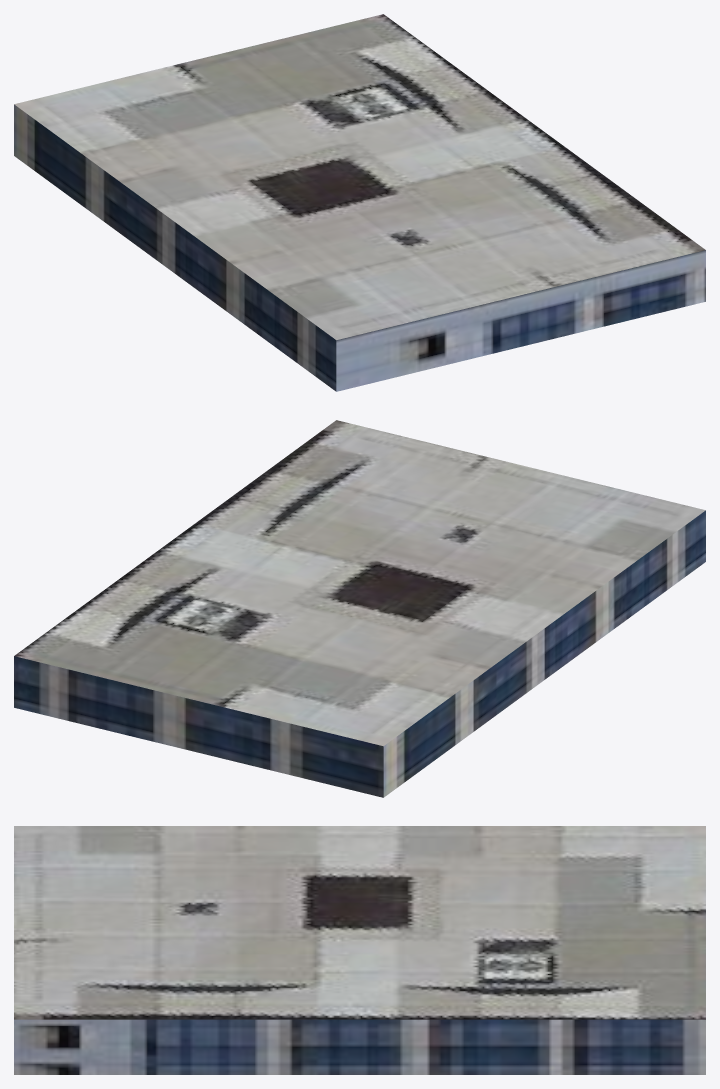
3 views of the same model, one above another, from view 1: azimuth 30°, elevation 25°; view 2: azimuth 150°, elevation 25°; view 3: azimuth 270°, elevation 25° (orthographic). The views are drawn at different scales.
Parts seen in each view (by area): view 1: b123; view 2: b123; view 3: b123.
Boxes of the visible parts, x1=… form: b123: x1=14, y1=14, x2=705, y2=391; b123: x1=14, y1=420, x2=705, y2=797; b123: x1=14, y1=826, x2=705, y2=1074.
Bounding box in the file's own units: 52.71 × 7.03 × 79.66.
1 material, 1 textured.
